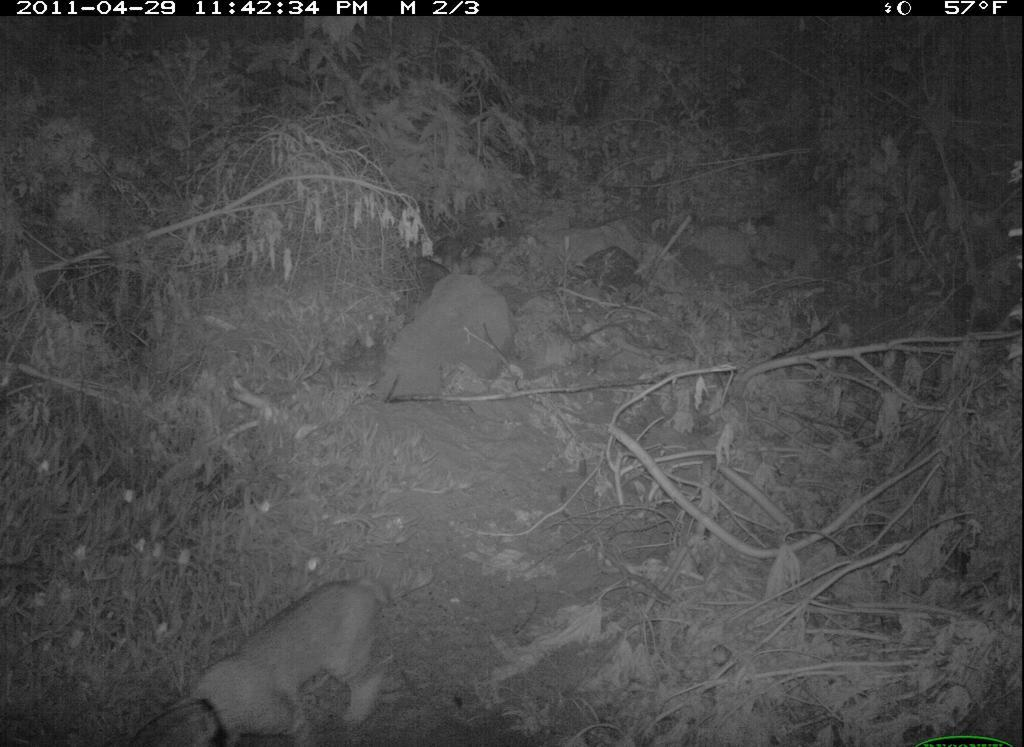bobcat: (145, 562, 413, 745)
